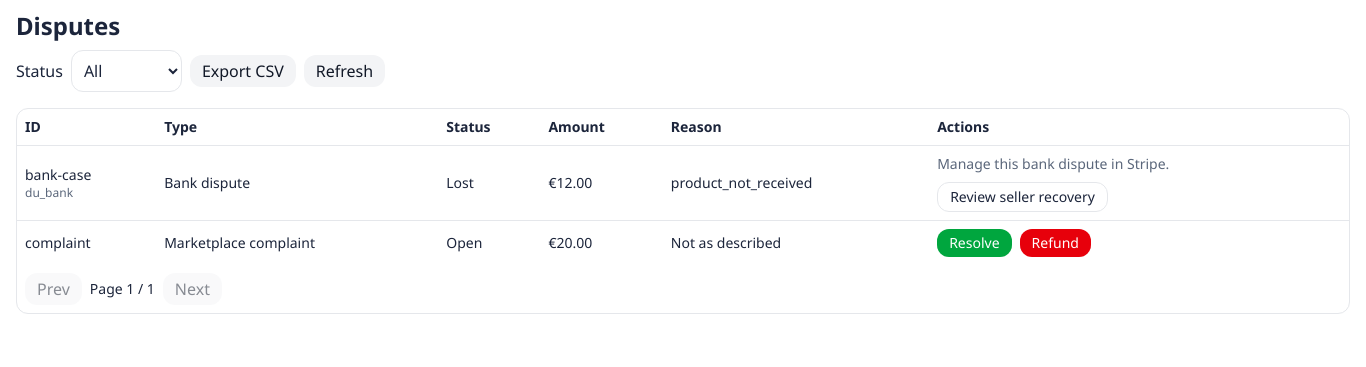
Scenario: admin bank disputes and marketplace complaints › authenticates exports and shows download errors
The image size is (1366, 367).
Expected: the text "bank-case" is shown, [25,165,91,184]
Click the button "Export CSV" at (243, 71), box [190,55,296,87]
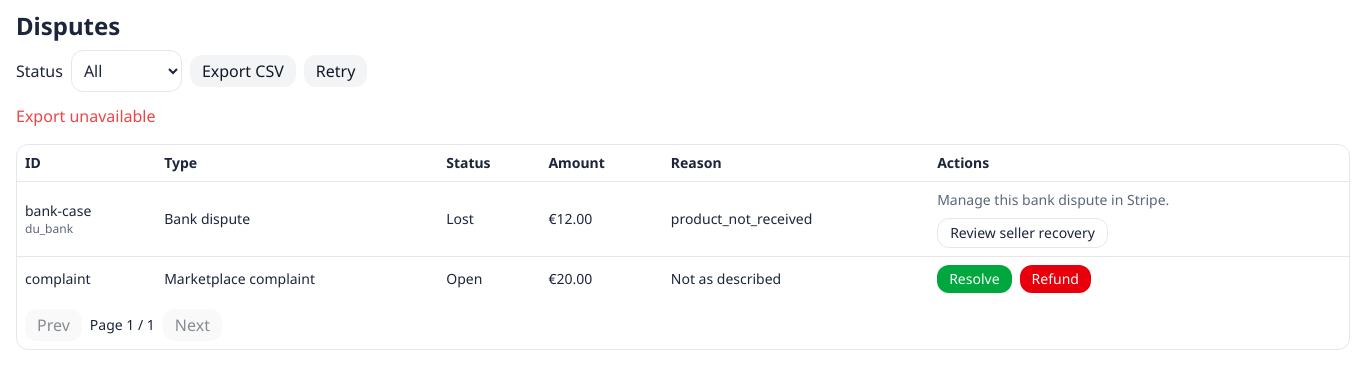
Expected: the message reads "Export unavailable", [16,105,156,127]
